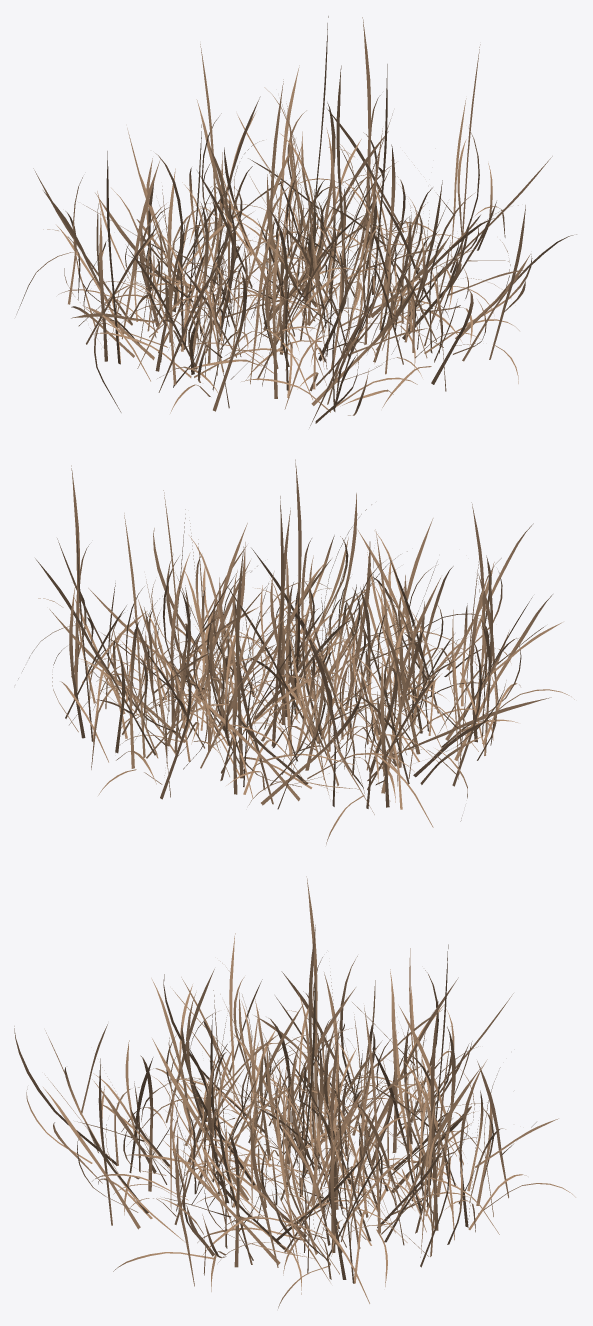
The model's file is grass.glb.
3 renders of one model, top to bottom at view 1: azimuth 30°, elevation 25°; view 2: azimuth 150°, elevation 25°; view 3: azimuth 270°, elevation 25°, orthographic.
Visible parts, largest first — view 1: Object_2; view 2: Object_2; view 3: Object_2.
Boxes of the visible parts, x1,y1,x2,y2 form: Object_2: (16,16,576,427); Object_2: (18,459,574,844); Object_2: (14,876,575,1308).
Size of the model in its own units: 5.35 by 3.02 by 5.36.
Materials: 1 (1 with a texture image).
